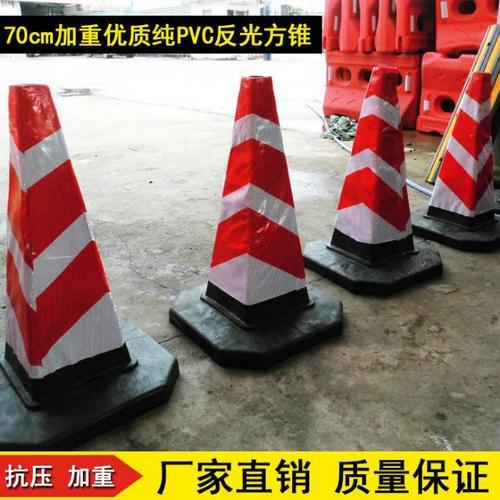cone_barrel: (181, 82, 327, 337), (320, 67, 424, 273), (419, 71, 498, 240)
